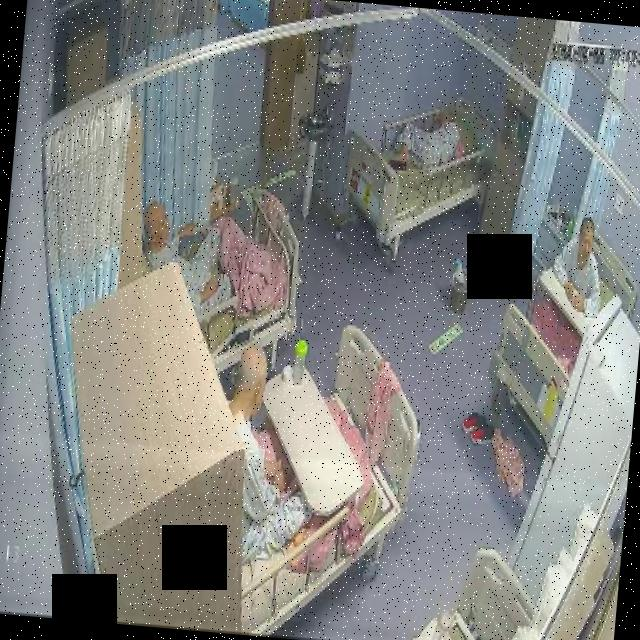bed: (226, 318, 427, 640), (483, 222, 640, 457), (165, 183, 306, 384), (339, 86, 493, 253)
lie: (386, 107, 464, 185)
patient: (214, 340, 328, 566), (135, 188, 234, 315), (547, 212, 610, 318), (386, 107, 466, 184)
sit: (212, 338, 326, 570), (134, 188, 234, 313), (548, 211, 608, 317)
